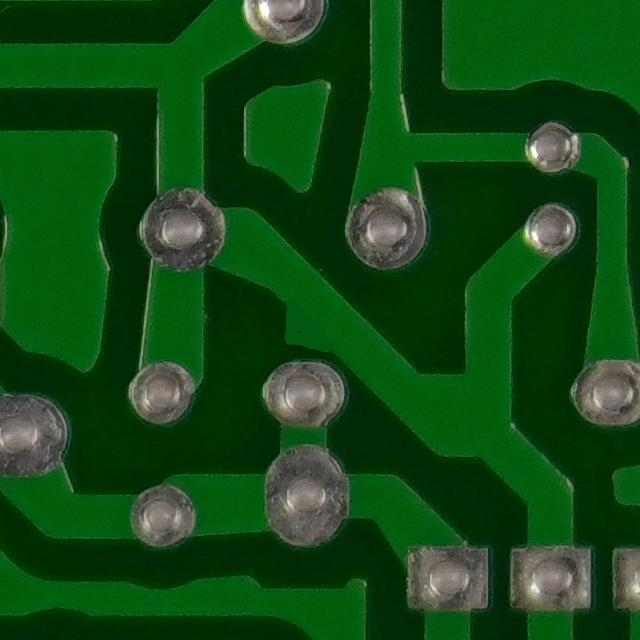spur: (270, 285, 370, 356)
